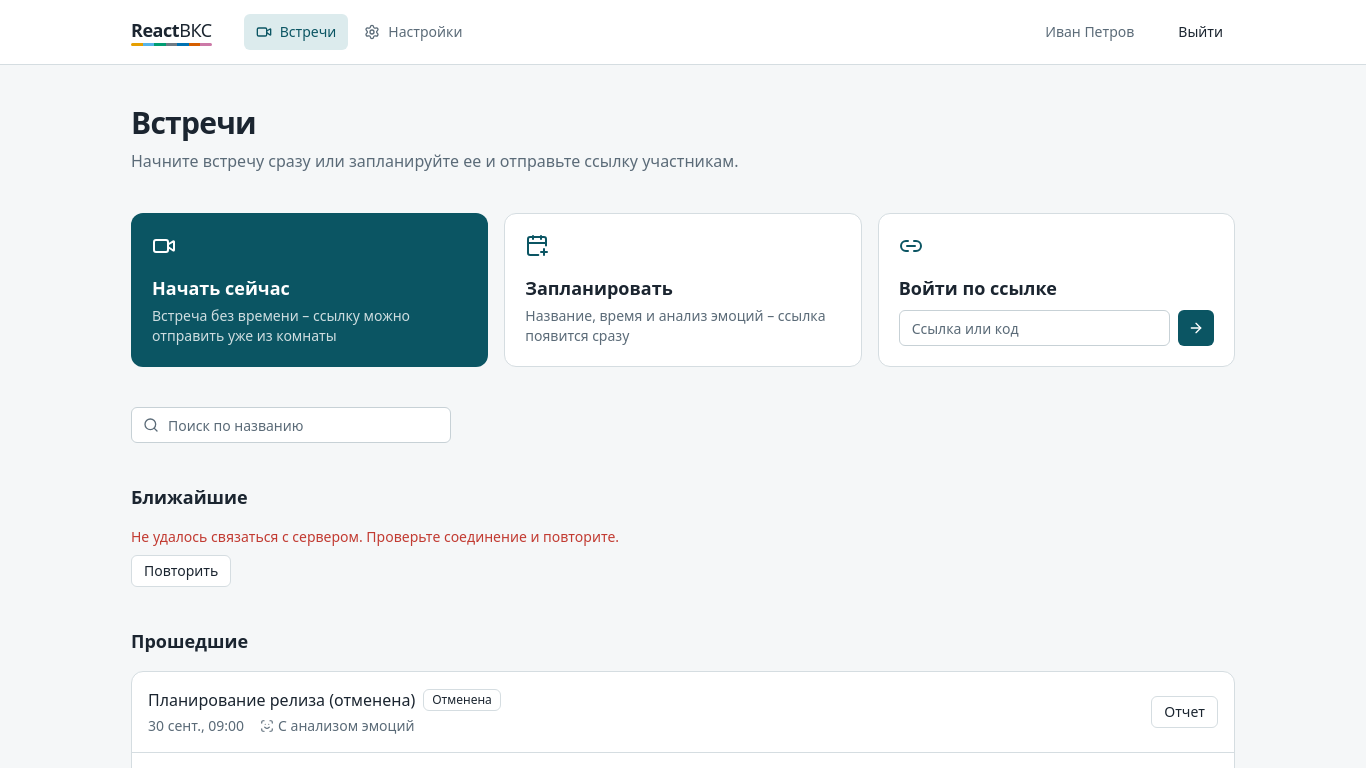
главная организатора › сбой загрузки раздела – сообщение и «Повторить», второй раздел работает
Check: the message shows "Не удалось связаться с сервером", box [131,527,619,546]
Click the button "Повторить" at (181, 571), box [131,555,231,587]
(page scrolled)
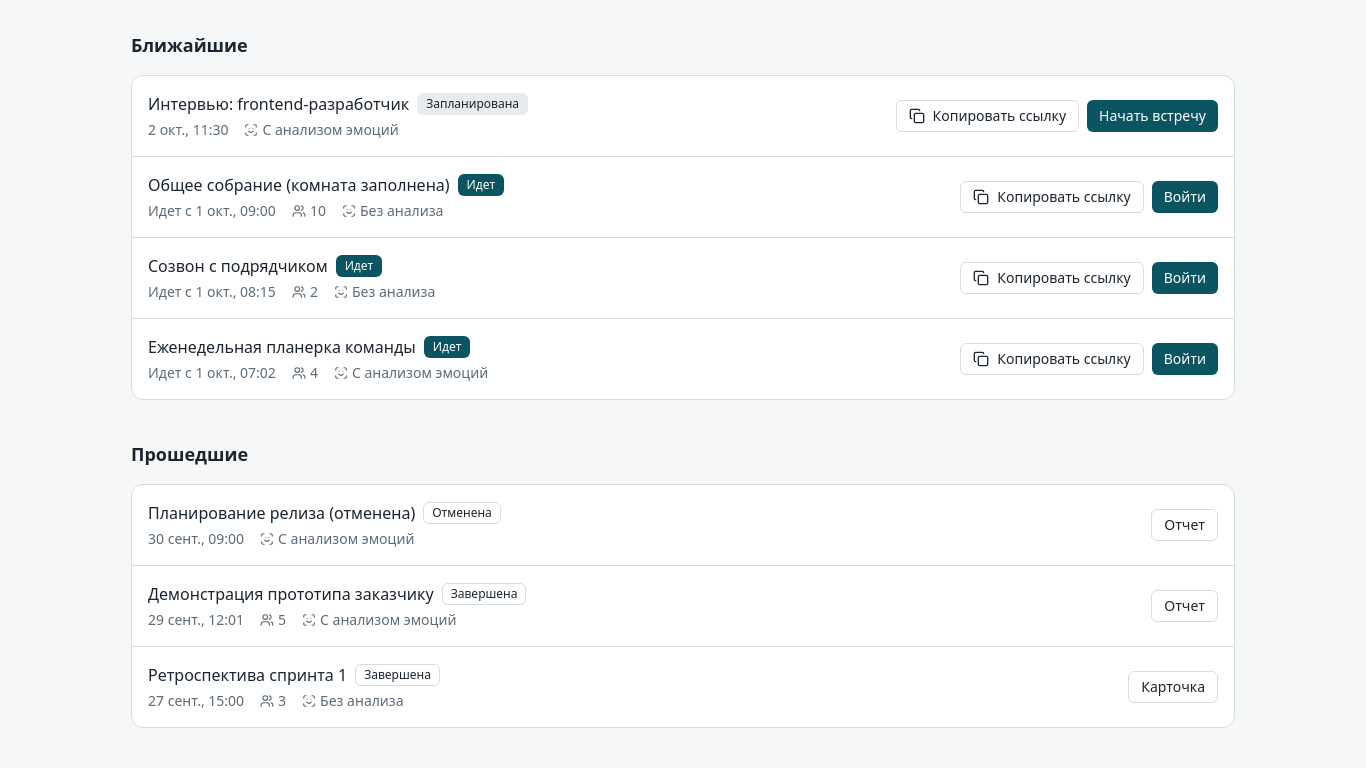
Check: the link "Ретроспектива спринта 1" is shown, box [148,663,347,687]
Check: the link "Еженедельная планерка команды" is shown, box [148,335,416,359]
